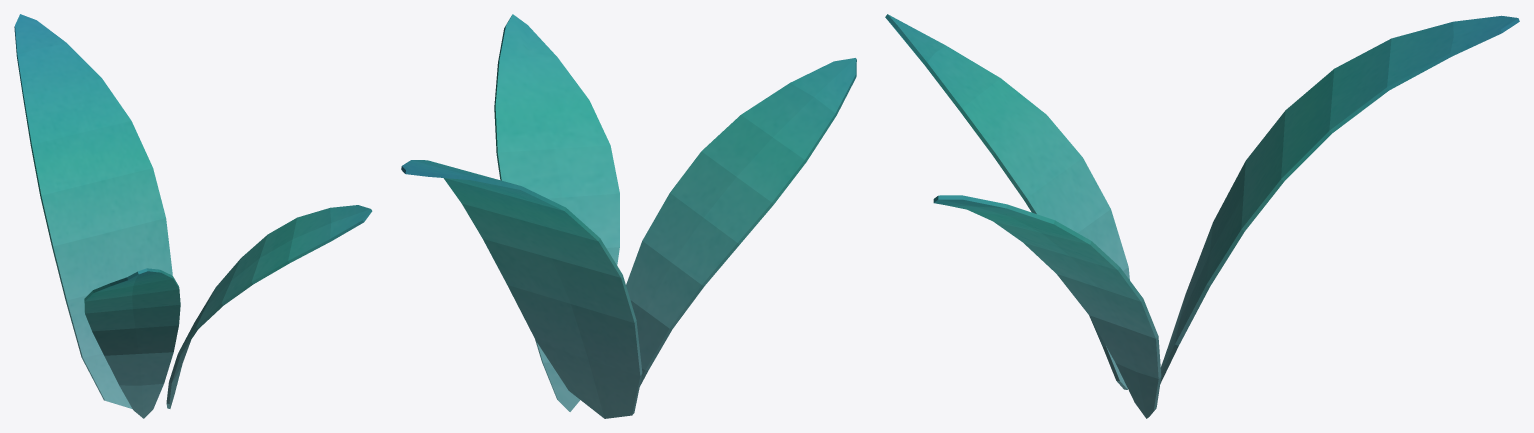
File: grass_1.obj
3 renders of one model, left to right at view 1: azimuth 30°, elevation 25°; view 2: azimuth 150°, elevation 25°; view 3: azimuth 270°, elevation 25°, orthographic. The views are drawn at different scales.
Visible parts, largest first — view 1: grass_1; view 2: grass_1; view 3: grass_1.
Part boxes in pixels (x1,y1,x2,y2): grass_1: (14,14,372,418); grass_1: (401,14,856,418); grass_1: (885,14,1519,418).
Size of the model in its own units: 0.6463 by 0.7029 by 1.03.
